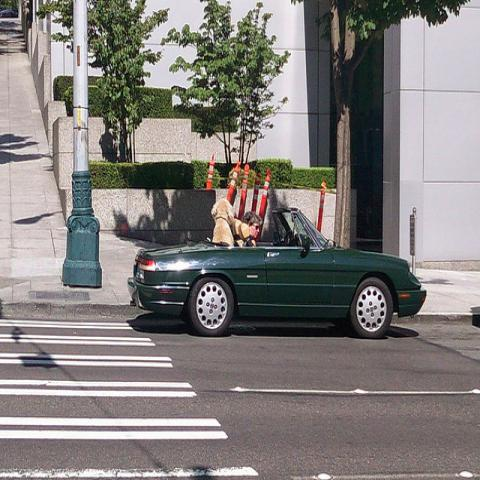car: (131, 203, 428, 340)
